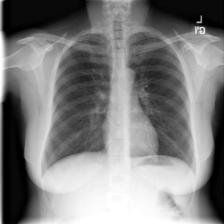normal: (38, 28, 202, 177)
